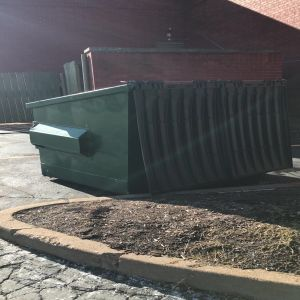Dumpster: (20, 76, 297, 195)
